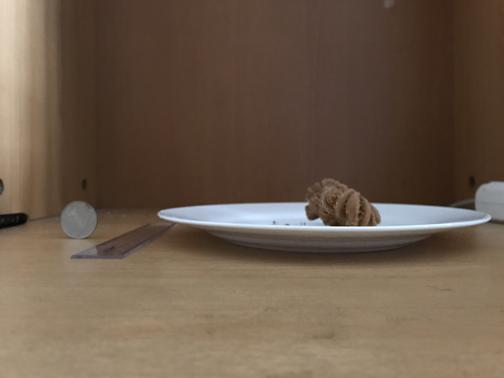coin: (62, 200, 96, 238)
fired_dough_twist: (304, 176, 381, 227)
